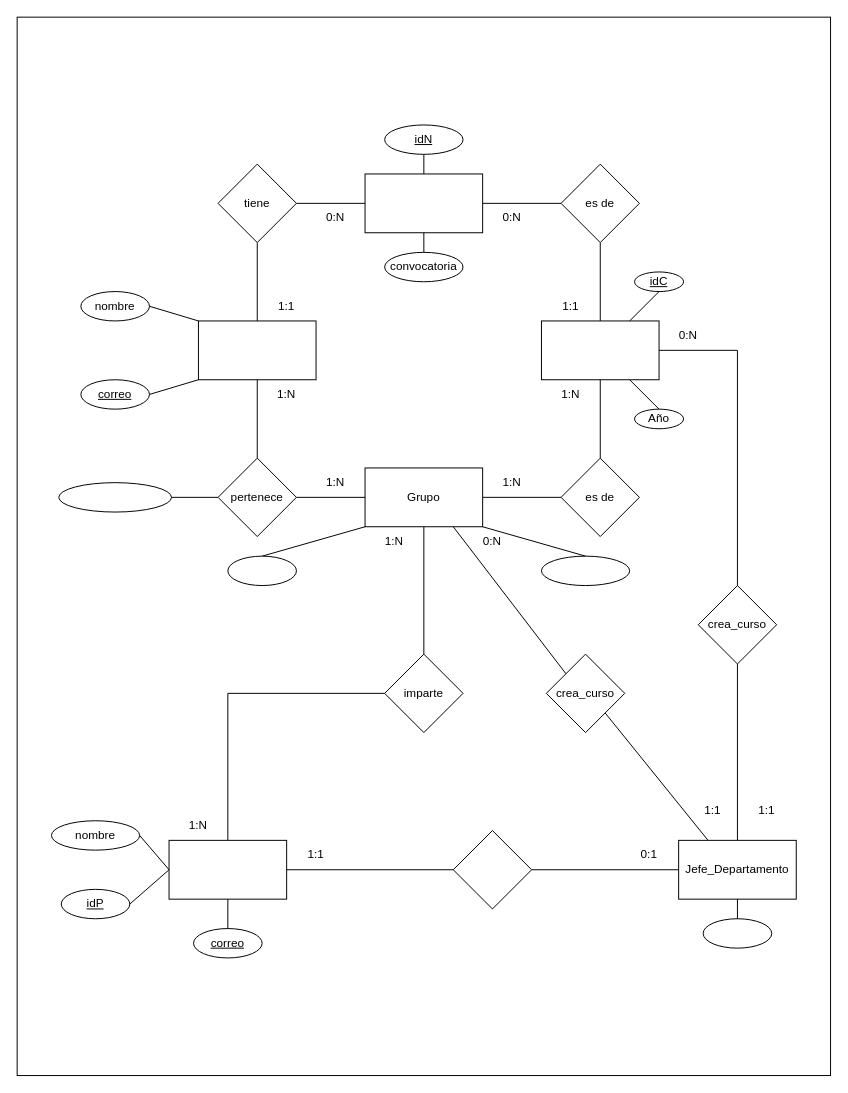
This 848x1093 diagram has some shape labels left out. The centre of each missing label's shape, as x and y in pixels:
"Alumno" goes at point (256, 350).
"Curso" goes at point (599, 350).
"es" goes at point (492, 869).
"fechaMatriculación" goes at point (115, 497).
"idG" goes at point (261, 570).
"idJ" goes at point (737, 933).
"maxAlumnos" goes at point (585, 570).
"Nota" goes at point (423, 203).
"Profesor" goes at point (227, 869).
